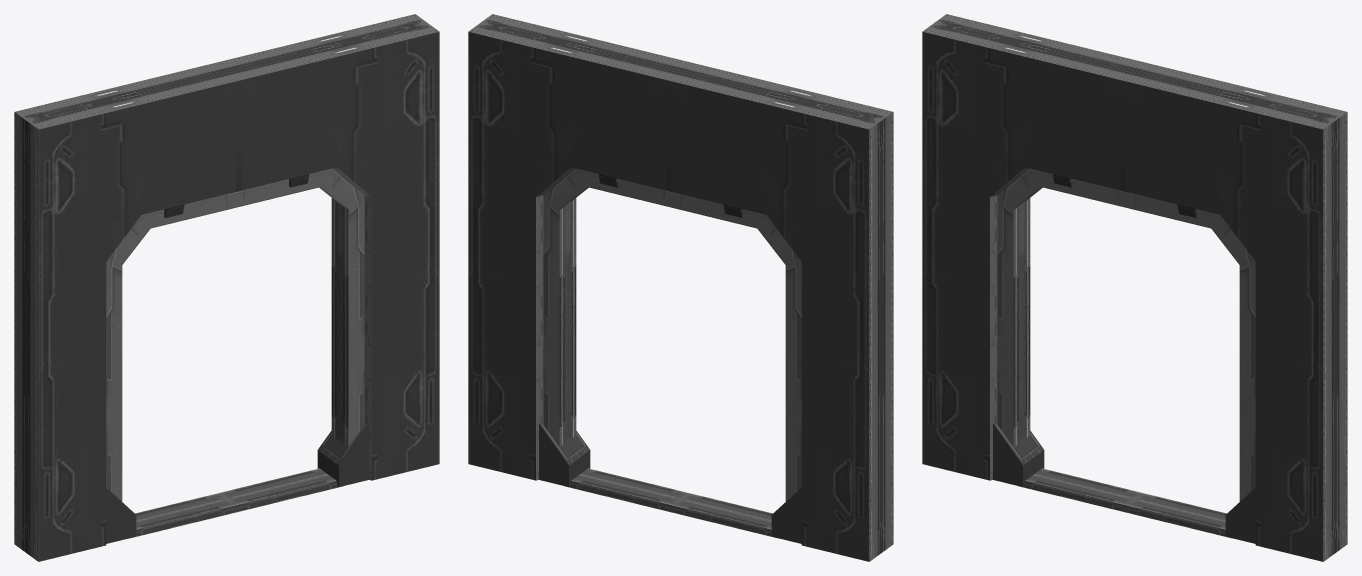
Rendered from core_door.glb.
3 views of the same model, side by side, from view 1: azimuth 30°, elevation 25°; view 2: azimuth 150°, elevation 25°; view 3: azimuth 330°, elevation 25° (orthographic).
Parts seen in each view (by area): view 1: Door_Frame_Square; view 2: Door_Frame_Square; view 3: Door_Frame_Square.
Boxes of the visible parts, left/top/right/bottom form: Door_Frame_Square: left=14, top=14, right=439, bottom=561; Door_Frame_Square: left=468, top=14, right=893, bottom=561; Door_Frame_Square: left=922, top=14, right=1347, bottom=561.
Bounding box in the file's own units: 4.85 × 5.01 × 0.5067.
Materials: 1 (1 with a texture image).
